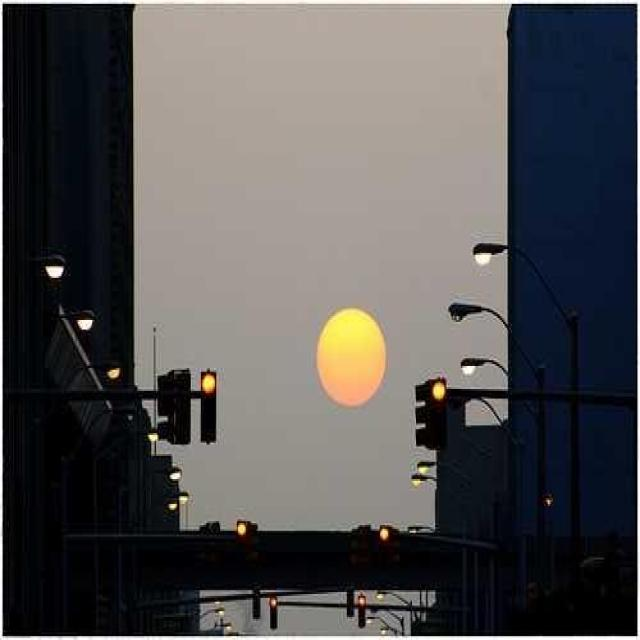Traffic Light -Red-: (428, 374, 450, 454), (197, 368, 220, 444)
